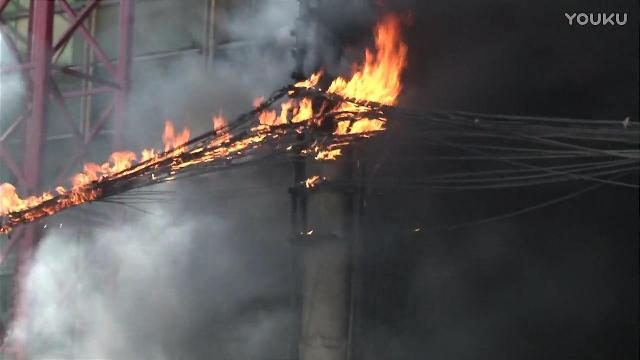fire: (349, 68, 399, 102), (374, 16, 406, 66), (0, 182, 16, 212), (350, 117, 384, 131), (294, 98, 312, 122), (110, 150, 130, 170), (274, 100, 290, 124), (330, 76, 348, 96), (333, 102, 369, 112), (160, 118, 172, 148), (360, 46, 372, 68), (314, 149, 340, 159), (84, 162, 98, 180), (16, 196, 36, 208), (332, 120, 348, 134), (258, 110, 274, 124), (173, 130, 189, 144), (70, 190, 86, 204), (208, 134, 228, 144), (72, 172, 84, 188), (172, 159, 194, 167), (213, 113, 225, 127), (228, 140, 244, 150), (207, 147, 227, 155), (36, 191, 52, 201), (21, 211, 41, 219), (296, 78, 310, 88), (310, 72, 320, 86), (41, 205, 55, 215), (140, 149, 152, 159), (245, 136, 263, 142), (167, 149, 185, 155), (99, 162, 108, 174), (304, 176, 314, 186), (54, 199, 70, 205), (86, 190, 95, 199), (250, 126, 270, 130), (54, 185, 61, 192)
